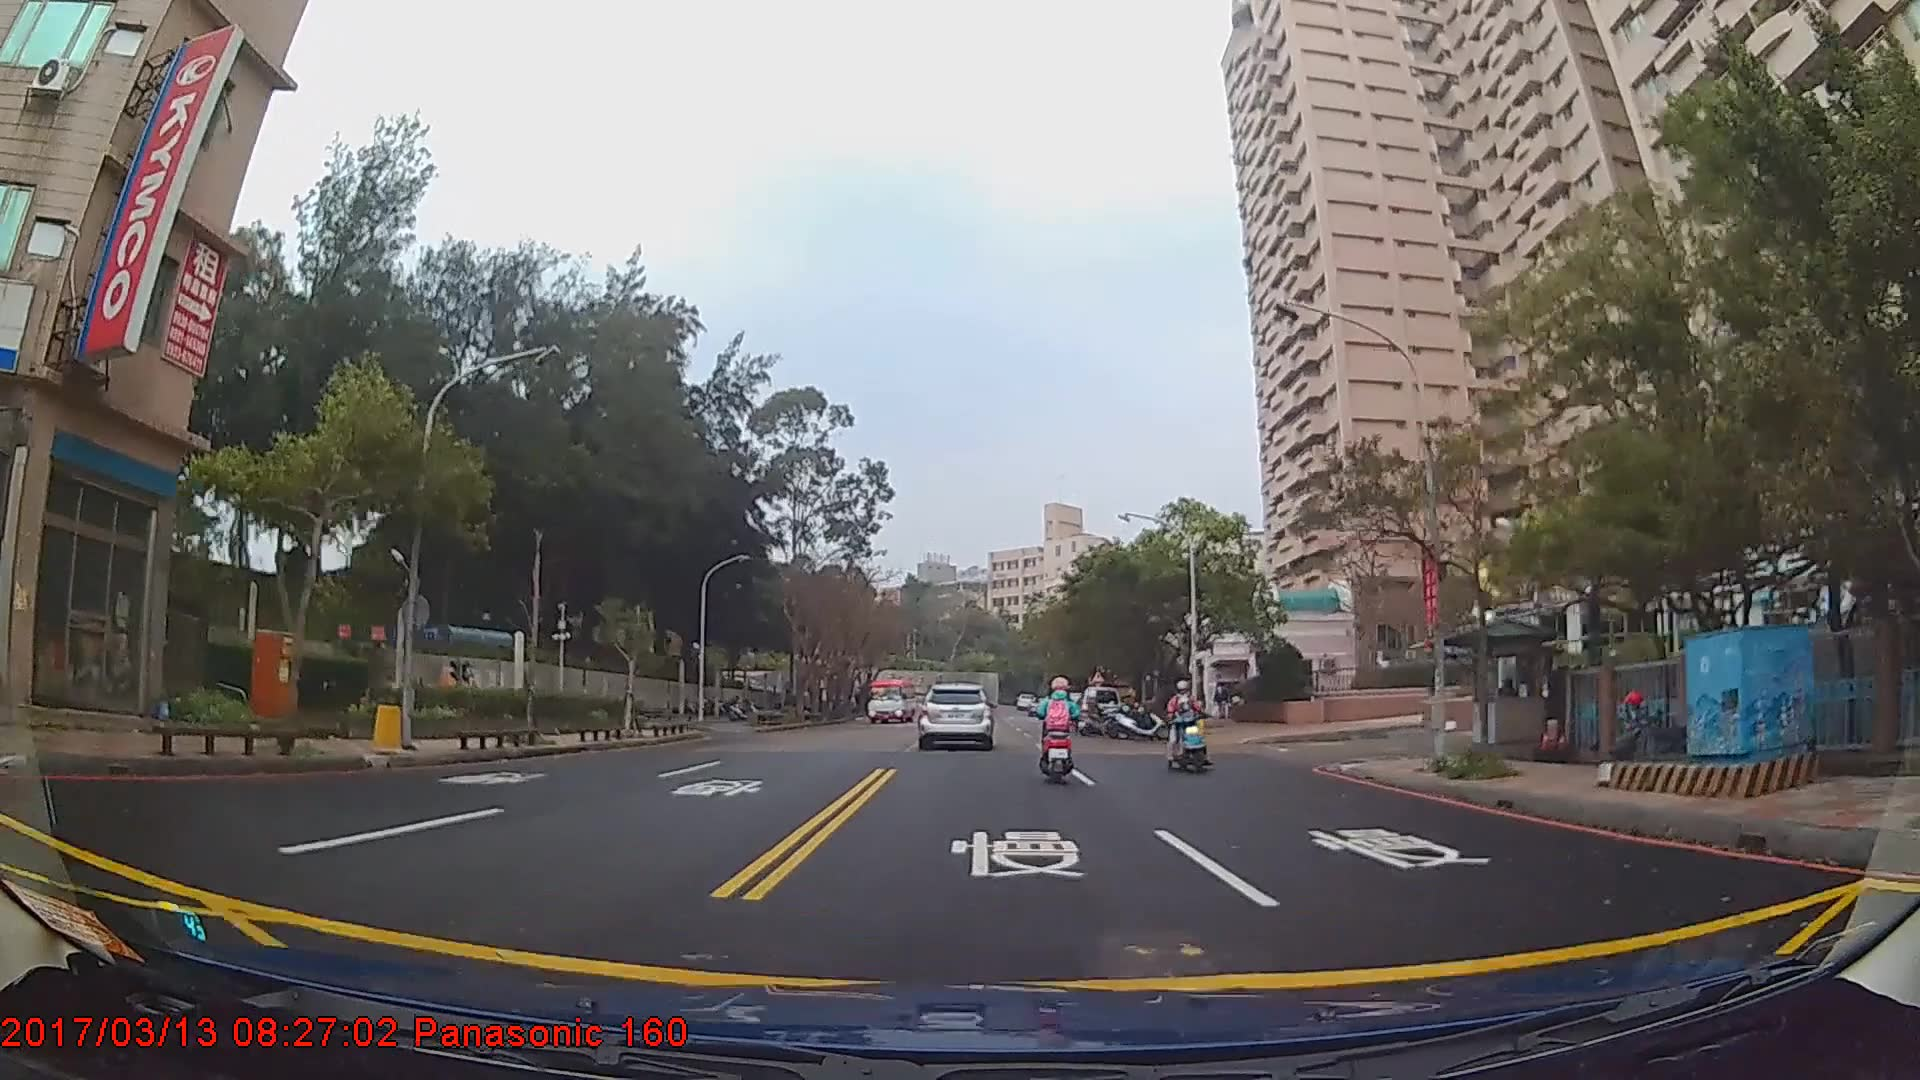rider: (1035, 667, 1080, 782), (1163, 679, 1208, 768), (1078, 689, 1111, 739)
vehicle: (916, 678, 993, 746), (866, 676, 918, 722), (1075, 683, 1121, 728)
